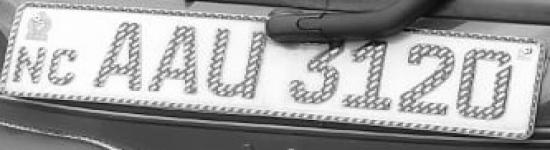0: (456, 43, 514, 127)
1: (343, 37, 394, 114)
2: (397, 39, 456, 120)
3: (284, 30, 342, 110)
A: (149, 16, 204, 100), (87, 16, 146, 94)
C: (49, 45, 82, 87)
N: (11, 44, 48, 85)
U: (206, 23, 268, 106)
